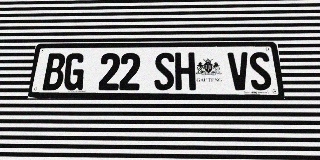2: (98, 53, 120, 90), (119, 53, 140, 90)
B: (42, 53, 66, 90)
G: (63, 53, 86, 90)
H: (175, 52, 196, 90)
S: (248, 52, 273, 90), (154, 53, 174, 90)
V: (227, 52, 251, 90)
